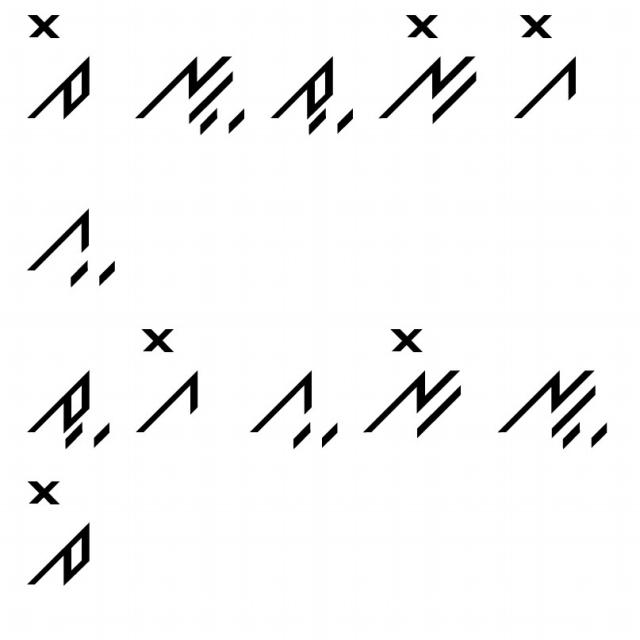gah: (240, 365, 344, 460), (21, 203, 119, 293)
go: (131, 322, 208, 442), (509, 12, 580, 121)
ngah: (496, 351, 616, 458), (123, 50, 249, 137)
ngo: (362, 322, 466, 448), (379, 10, 484, 130)
tah: (23, 356, 115, 458), (268, 52, 362, 138)
to: (12, 470, 96, 587), (18, 12, 96, 128)
